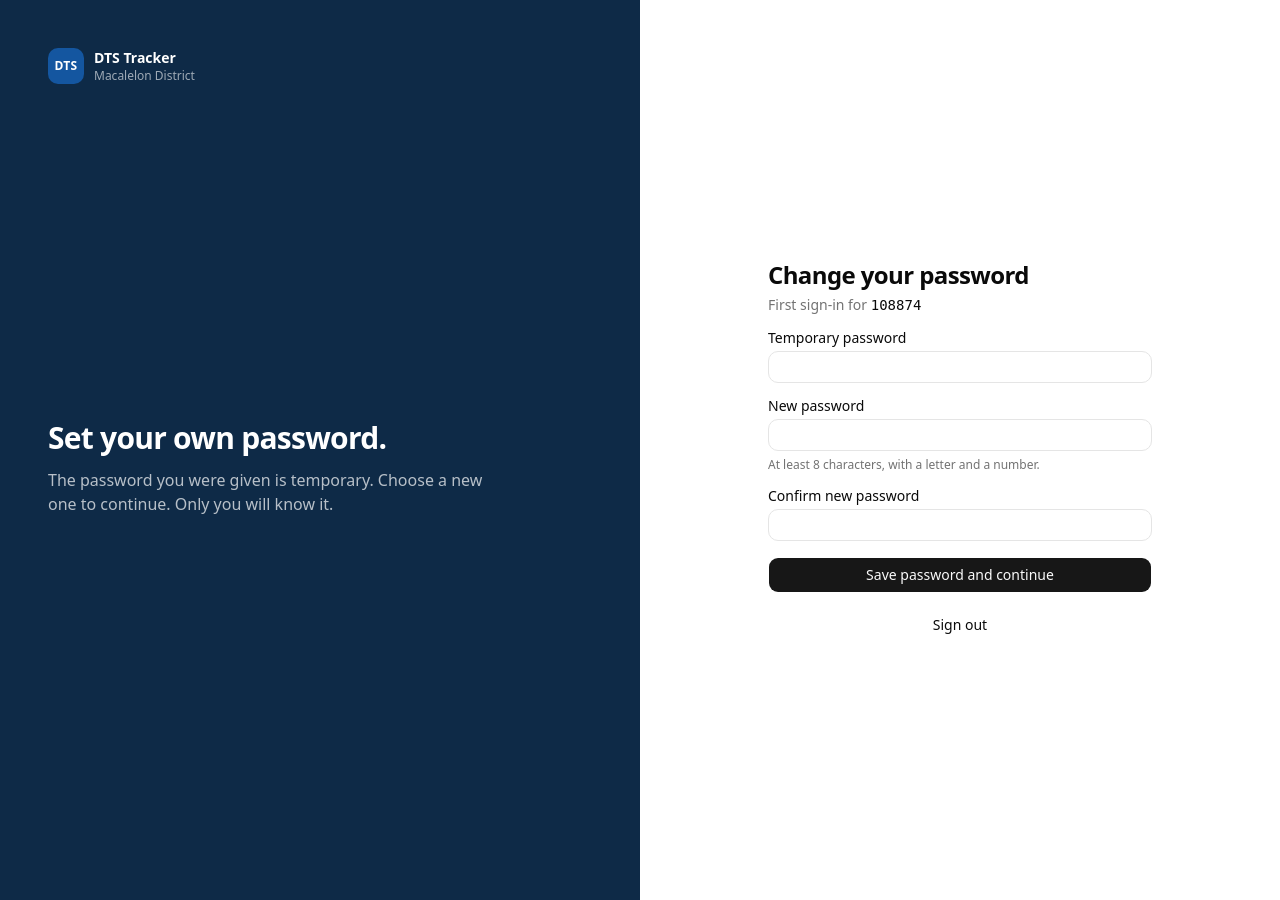
Test: ChangePasswordPage › rejects a weak password
Type "Temp-1234" into the password field labelled "Temporary password" at (960, 367), box [768,351,1152,383]
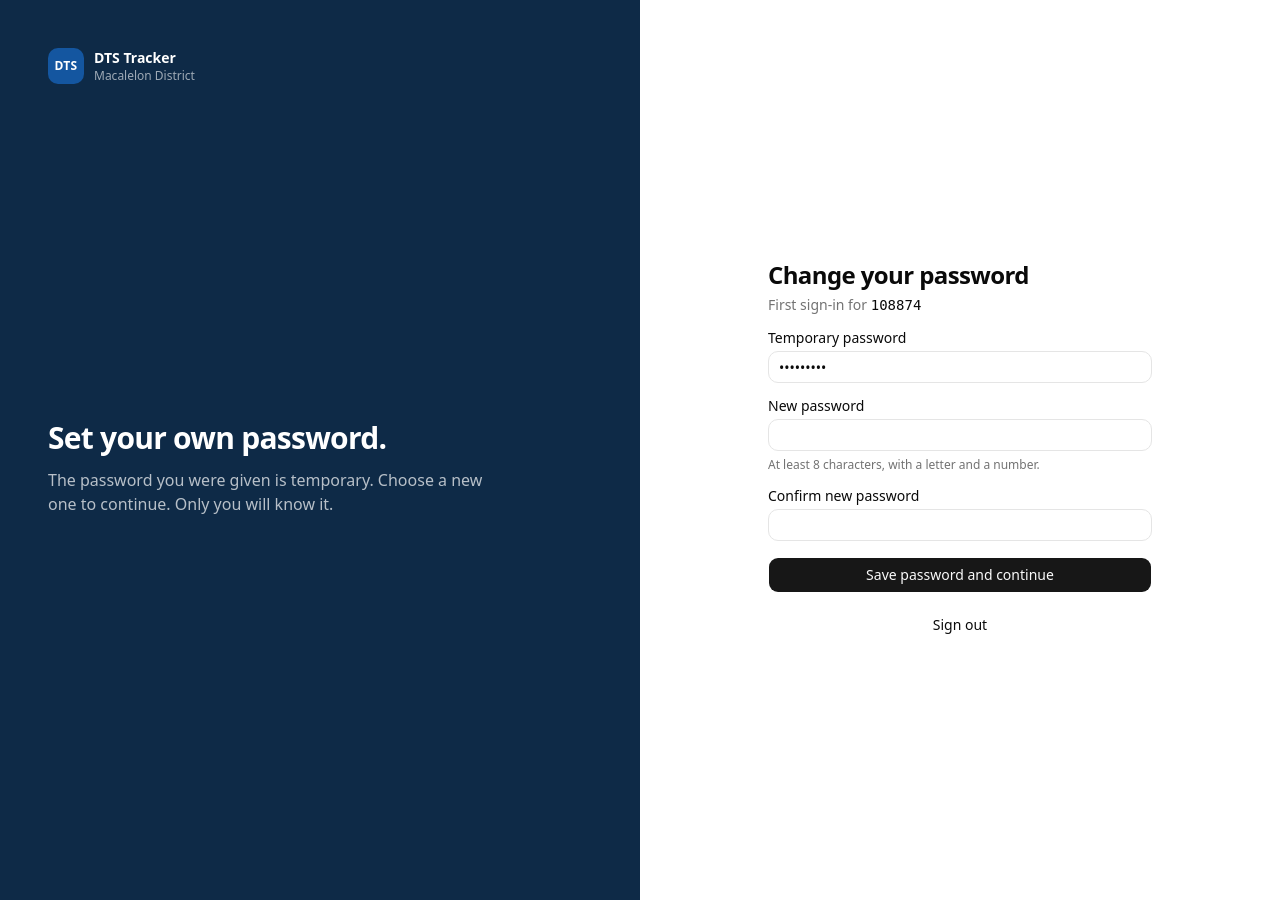
Type "abcdefgh" into the password field labelled "New password" at (960, 435), box [768,419,1152,451]
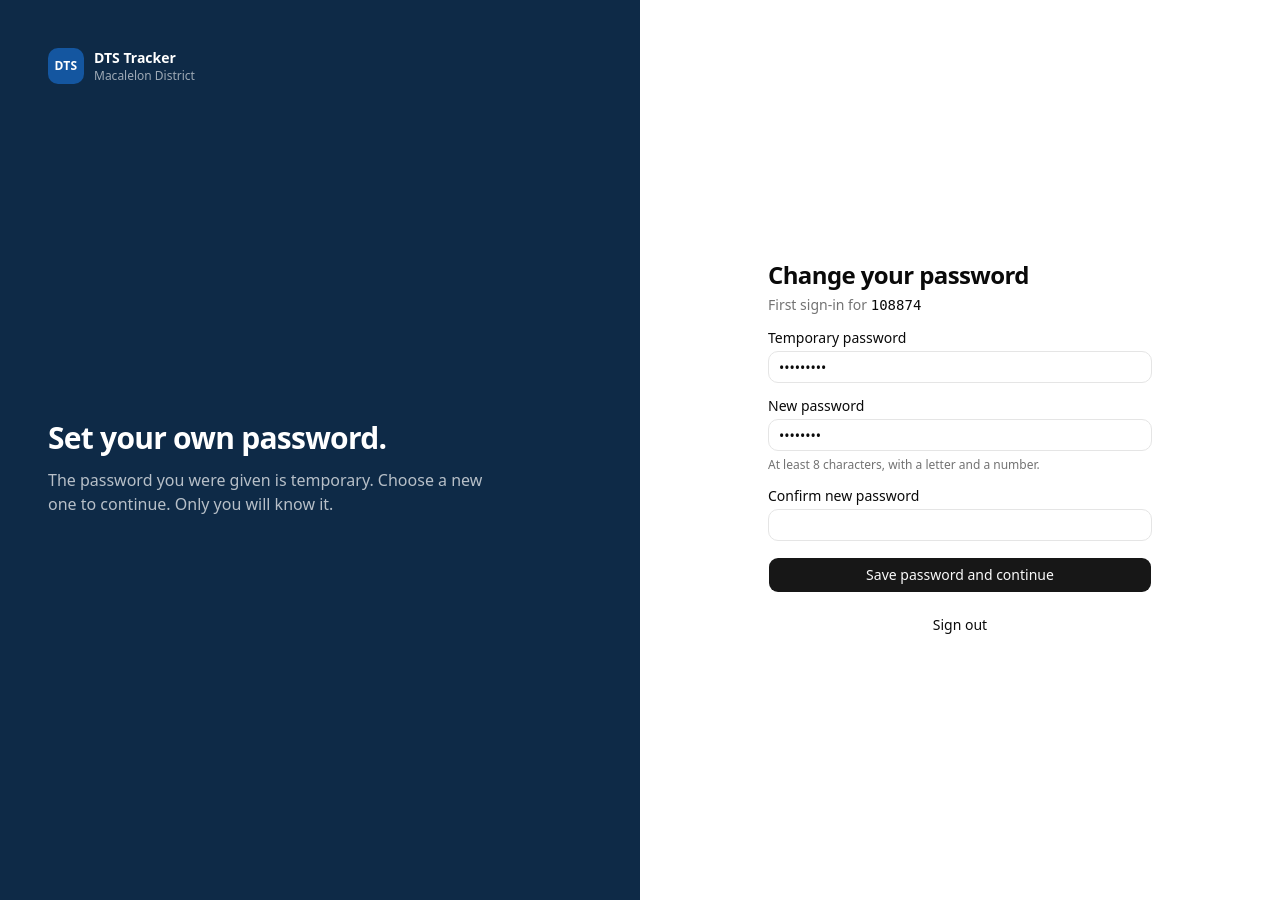
Type "abcdefgh" into the password field labelled "Confirm new password" at (960, 525), box [768,509,1152,541]
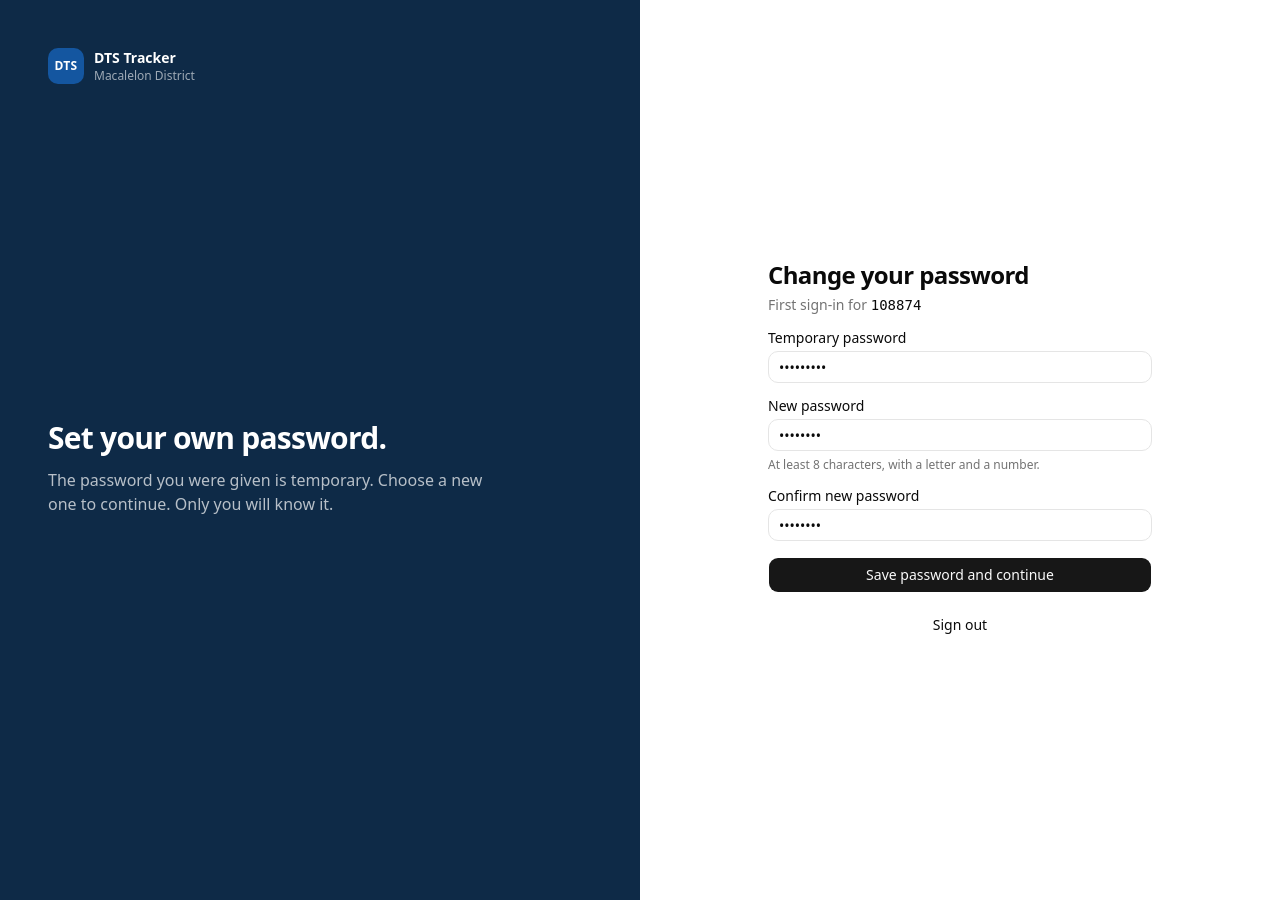
Click the button "Save password and continue" at (960, 575), box [768,557,1152,593]
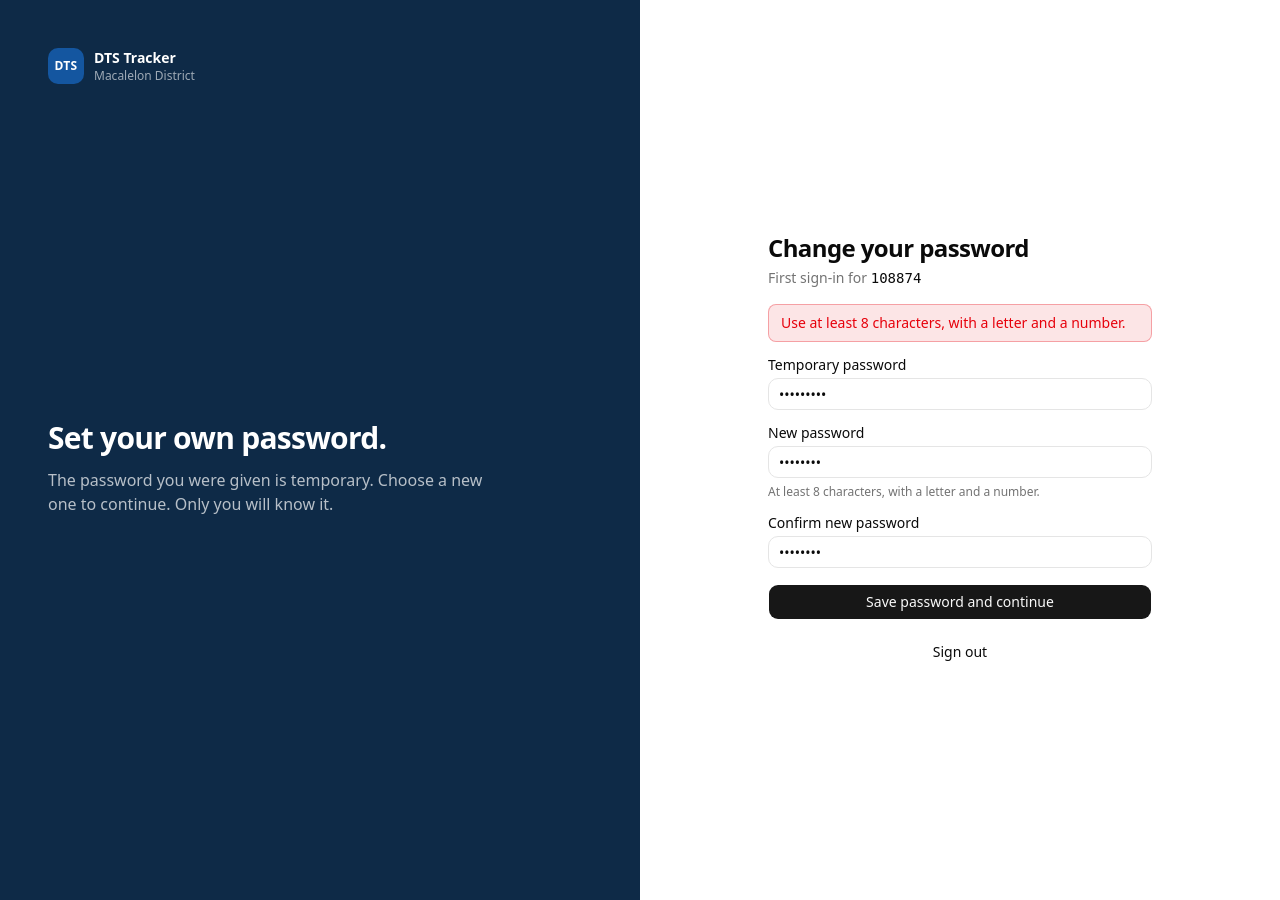
Now the message shows "at least 8 characters, with a letter and a number", box [781,313,1125,332]
